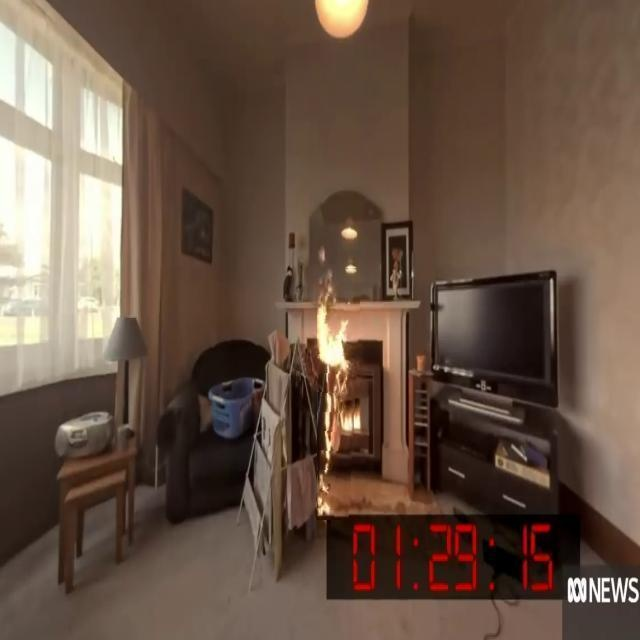fire: (285, 261, 393, 454)
